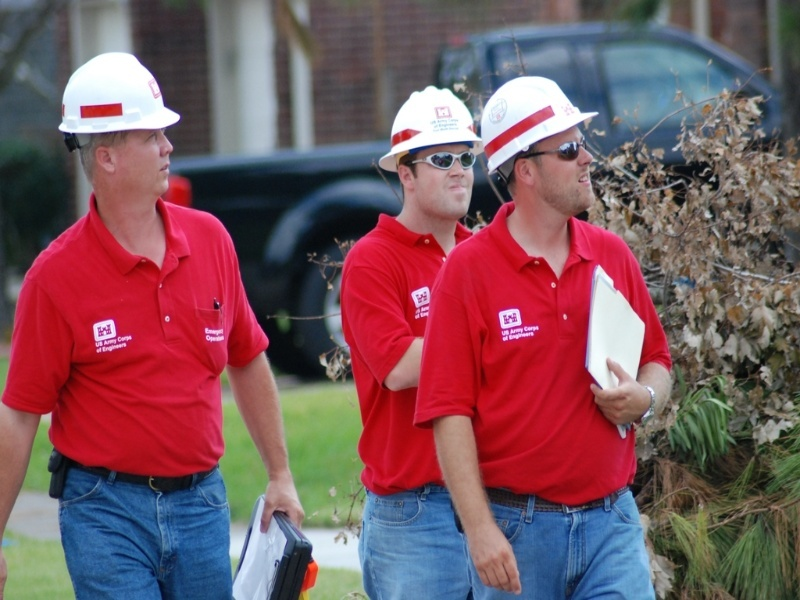Baret: (481, 75, 601, 173), (60, 51, 179, 131), (378, 83, 481, 169)
